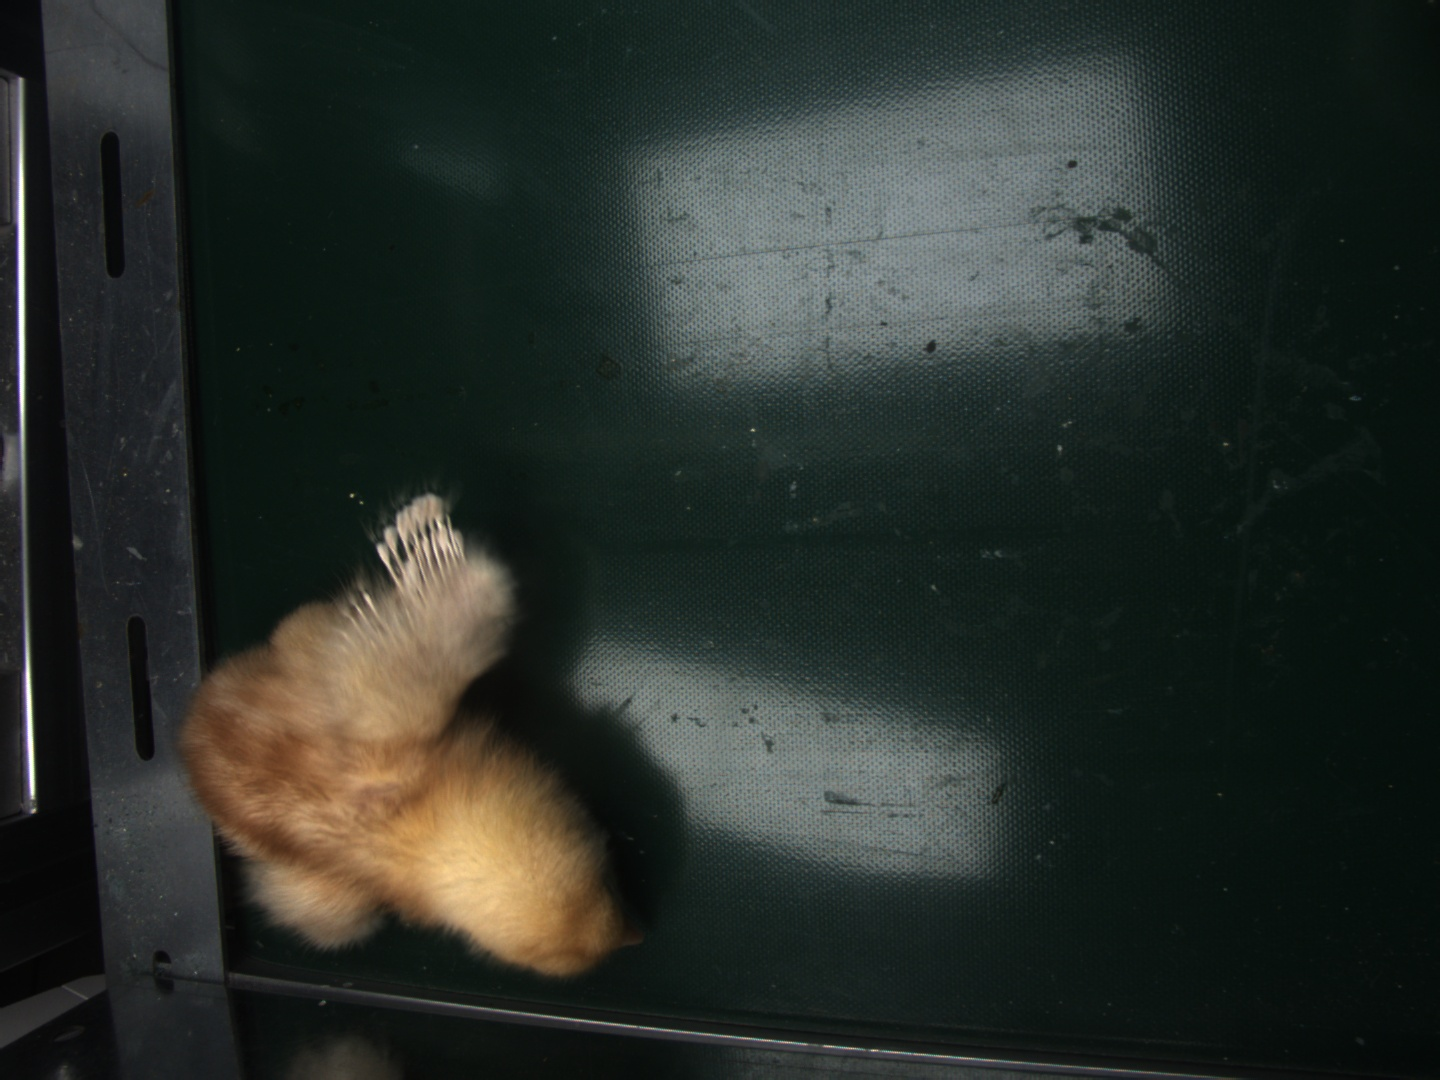female: (375, 492, 469, 591)
